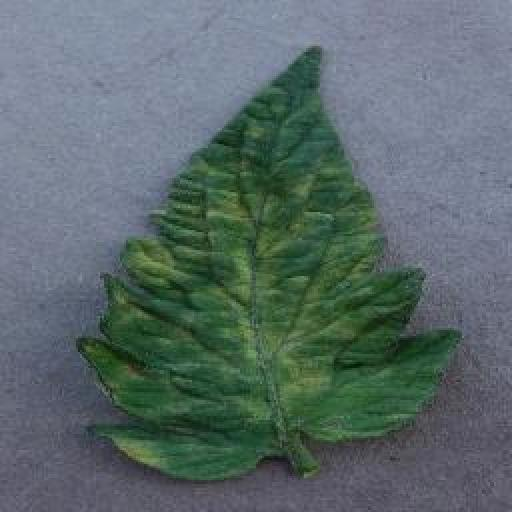disease_tomato: (79, 42, 467, 474)
